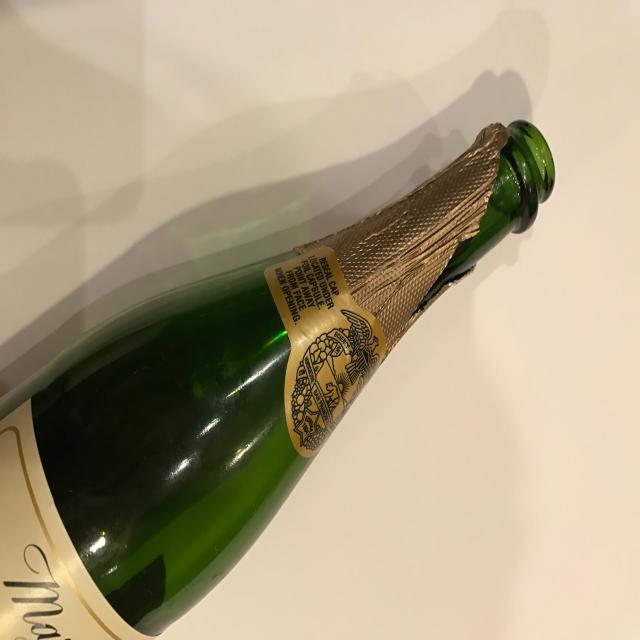glass: (1, 118, 556, 638)
